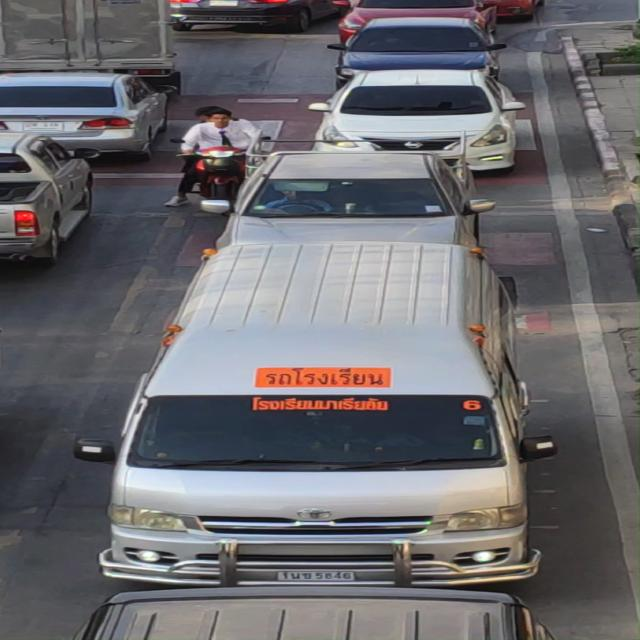car: (93, 240, 557, 599)
